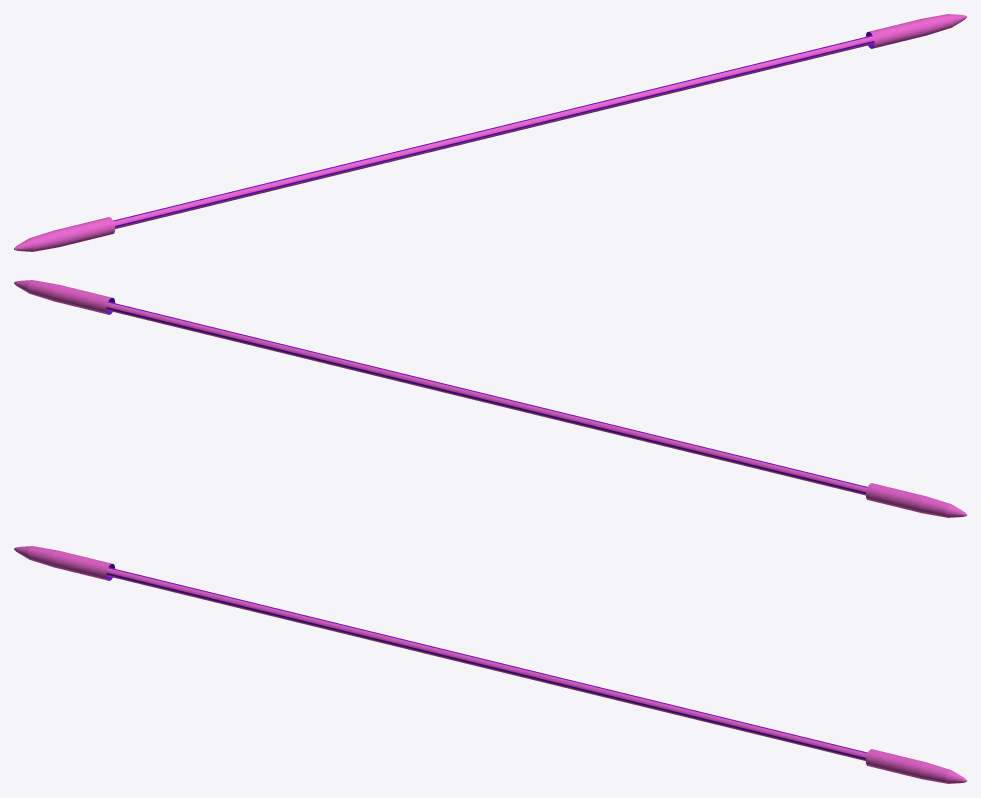
The model's file is light_pole.fbx.
3 views of the same model, one above another, from view 1: azimuth 30°, elevation 25°; view 2: azimuth 150°, elevation 25°; view 3: azimuth 330°, elevation 25° (orthographic).
Visible parts, largest first — view 1: Cylinder; view 2: Cylinder; view 3: Cylinder.
Part boxes in pixels (bbox=[...]): Cylinder: bbox=[14, 14, 966, 251]; Cylinder: bbox=[14, 280, 966, 517]; Cylinder: bbox=[14, 546, 966, 783].
Bounding box in the file's own units: 2177 × 34.83 × 34.83.
